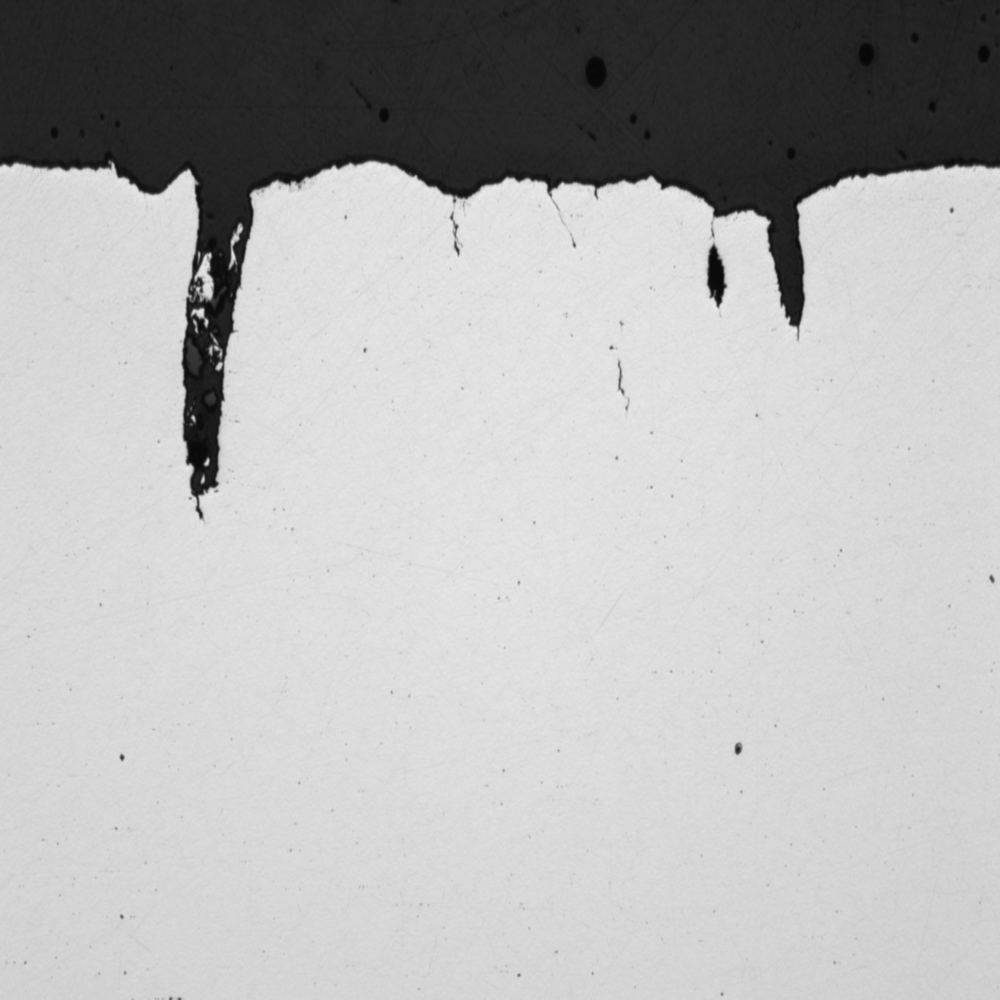crack: (174, 165, 265, 534), (753, 194, 809, 364), (697, 217, 739, 329)
